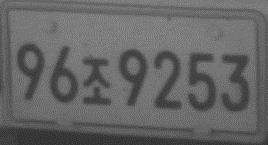2: (152, 49, 184, 110)
3: (220, 52, 250, 110)
5: (186, 52, 215, 111)
6: (49, 46, 77, 102)
9: (118, 48, 148, 106), (16, 42, 45, 100)
조: (81, 56, 112, 105)
